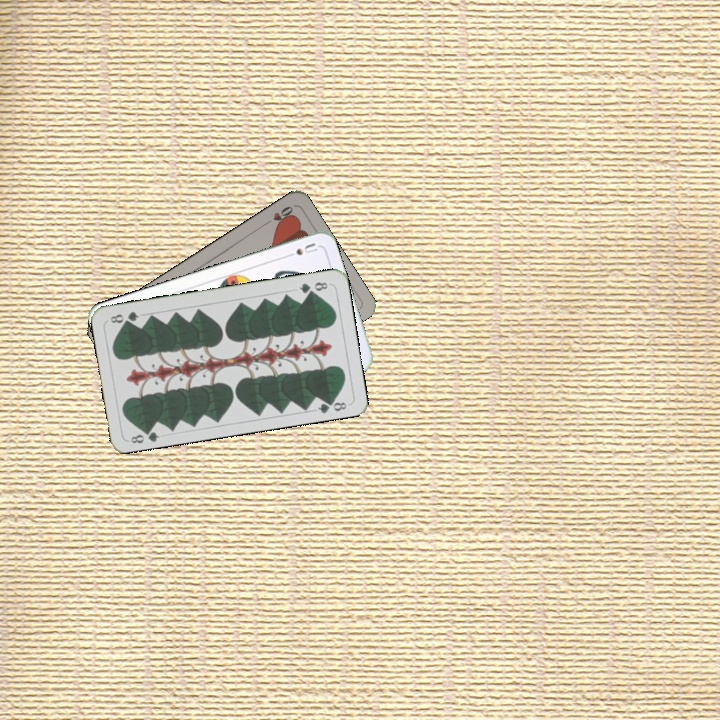G8: (127, 424, 162, 446), (295, 278, 332, 296)
HO: (260, 202, 296, 229)
SU: (281, 239, 320, 261)
